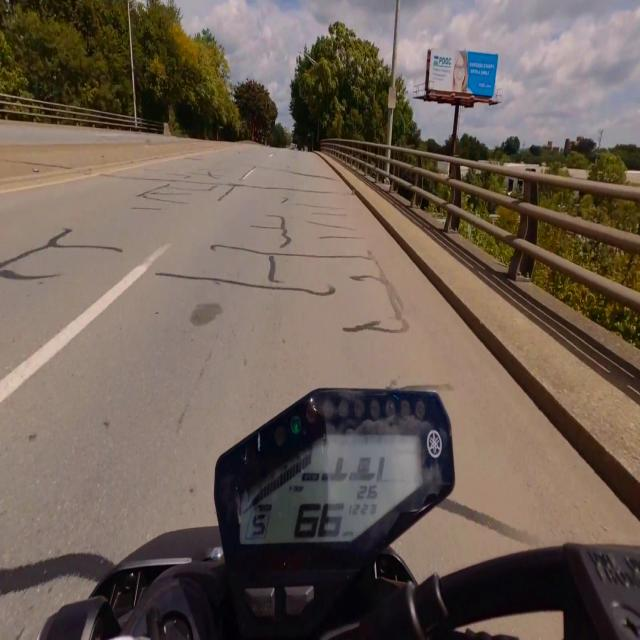motorcycle: (39, 389, 639, 639)
